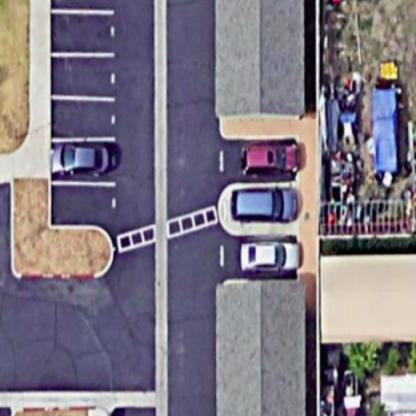car: (45, 134, 117, 185), (227, 185, 307, 225), (231, 237, 307, 274), (237, 139, 302, 175)
